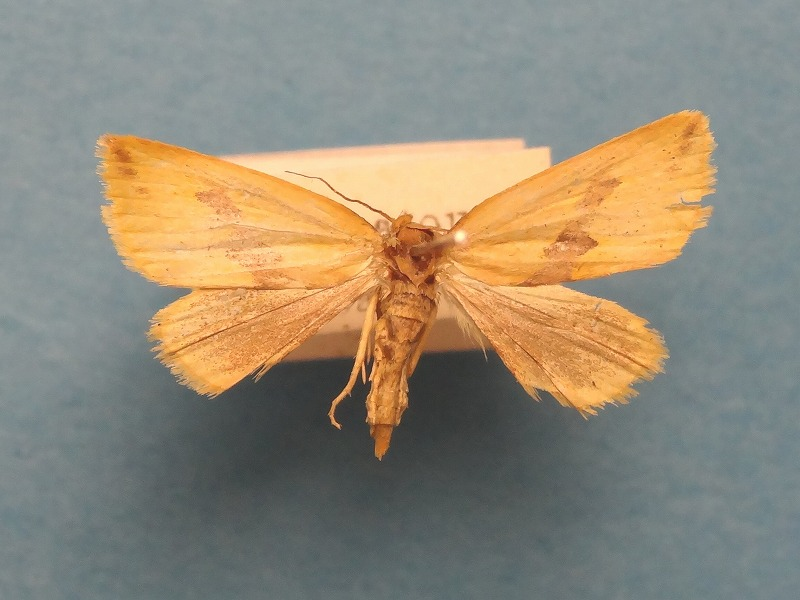Noctuidae: (93, 111, 717, 461)
